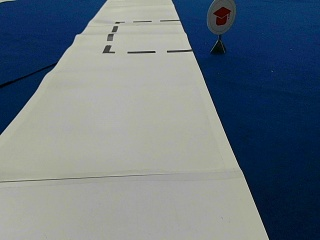school: (206, 1, 235, 33)
